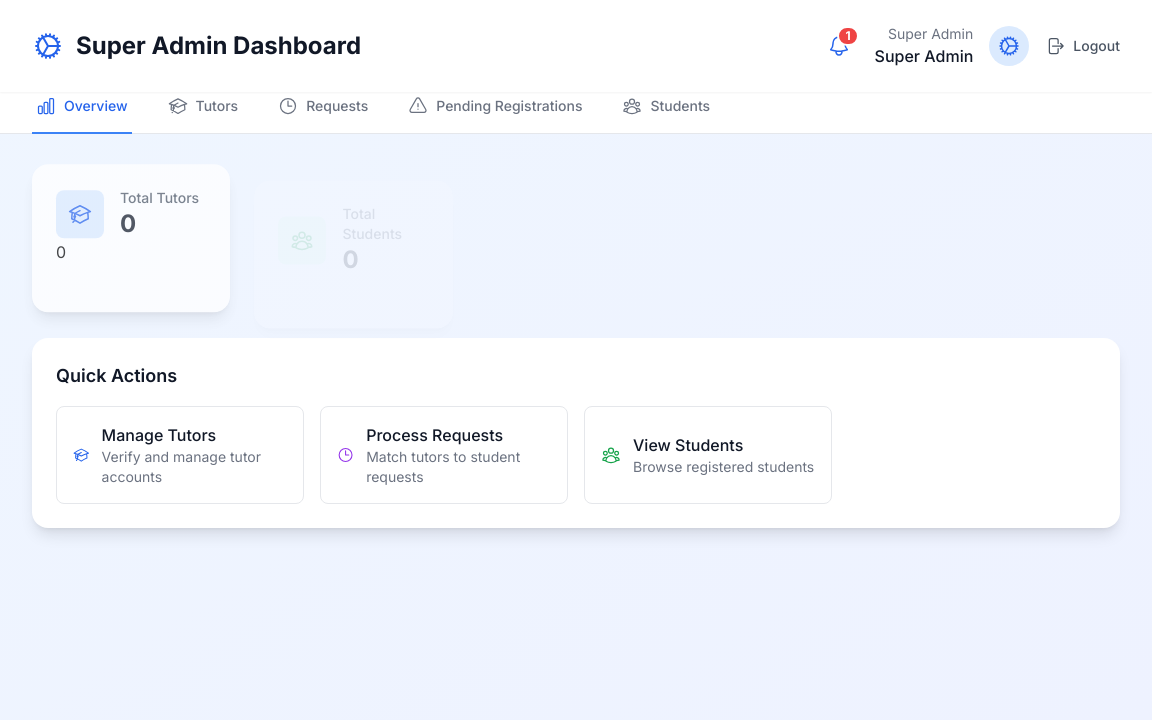
Test: Super Admin Notifications Dropdown › shows unread indicator and closes when clicking a notification
Click the button named "1 unread notification" at point(839, 46), box x1=819 y1=26 x2=859 y2=66
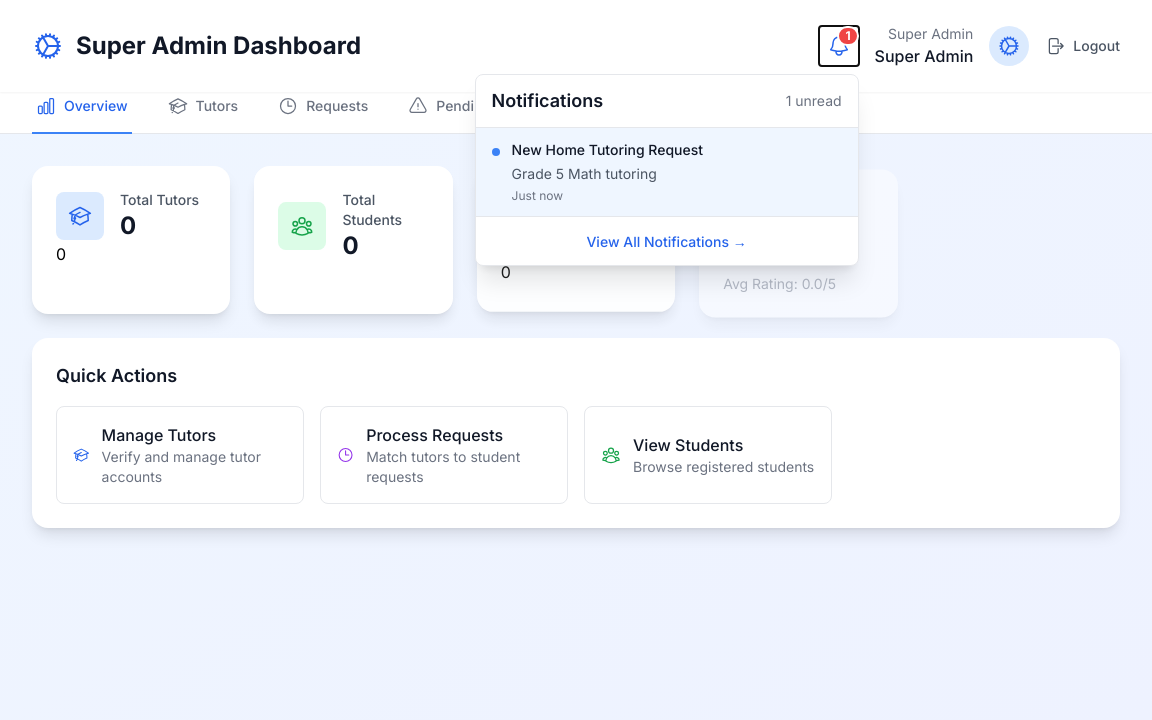
Now the text "New Home Tutoring Request" is shown, box x1=512 y1=141 x2=703 y2=158
Click the list item "New Home Tutoring Request" at point(667, 172), box x1=476 y1=128 x2=858 y2=216
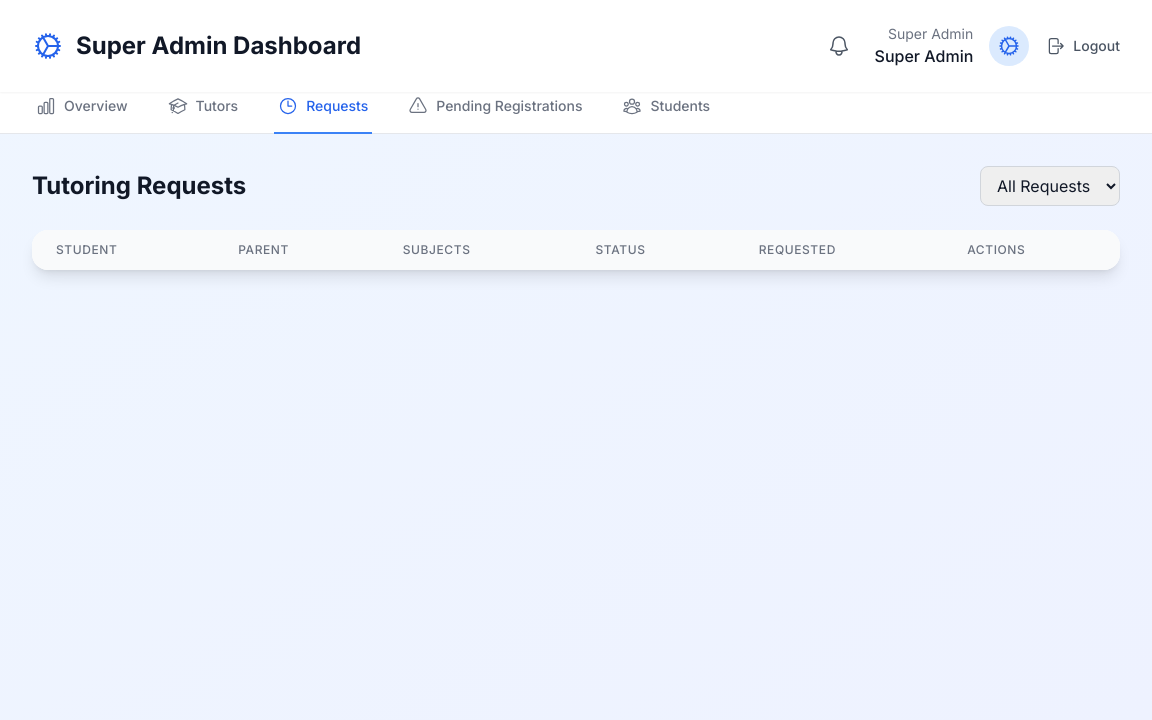
Now the heading "Notifications" is gone
